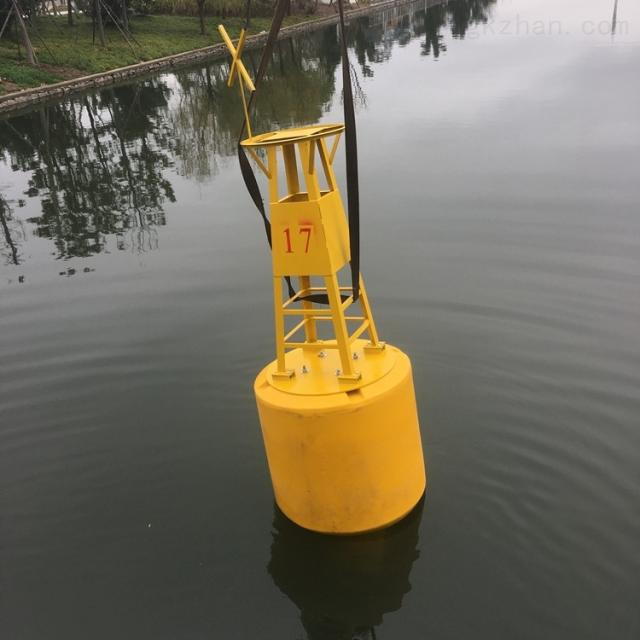buoy: (213, 20, 430, 535)
